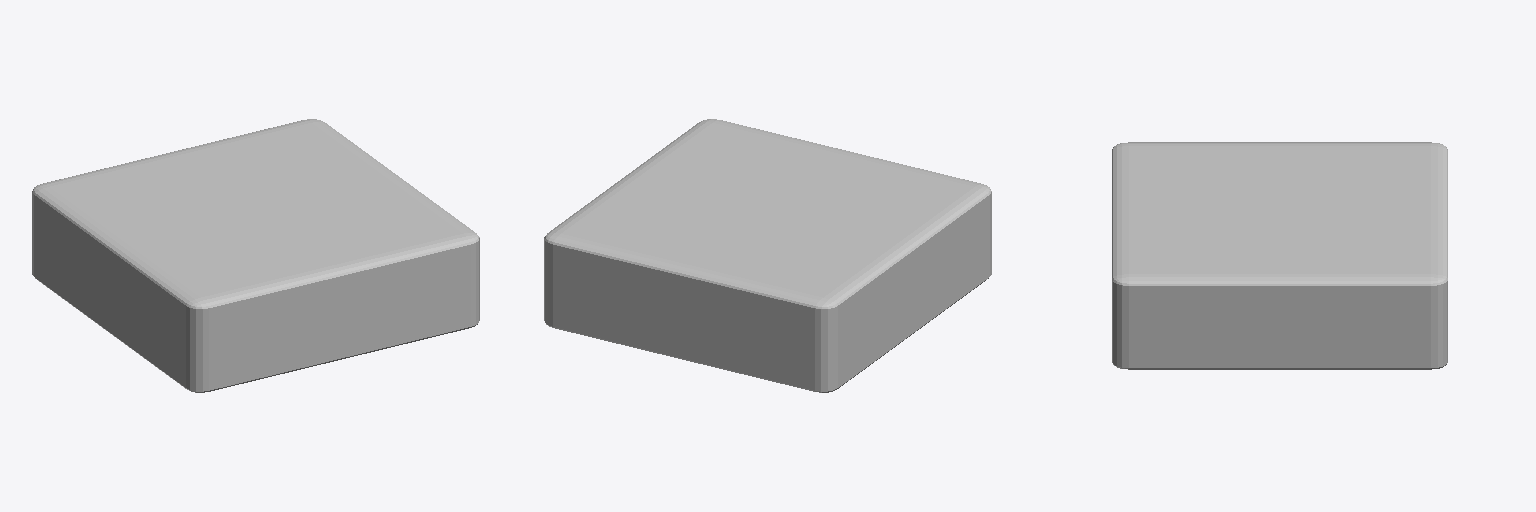
Rendered from clock_button_left.obj.
3 views of the same model, side by side, from view 1: azimuth 30°, elevation 25°; view 2: azimuth 150°, elevation 25°; view 3: azimuth 270°, elevation 25° (orthographic).
Parts seen in each view (by area): view 1: Cube.003_Cube.004; view 2: Cube.003_Cube.004; view 3: Cube.003_Cube.004.
Part boxes in pixels (x1,y1,x2,y2): Cube.003_Cube.004: (32, 119, 479, 392); Cube.003_Cube.004: (544, 119, 991, 392); Cube.003_Cube.004: (1112, 142, 1447, 369).
Size of the model in its own units: 0.0256 by 0.0077 by 0.0256.